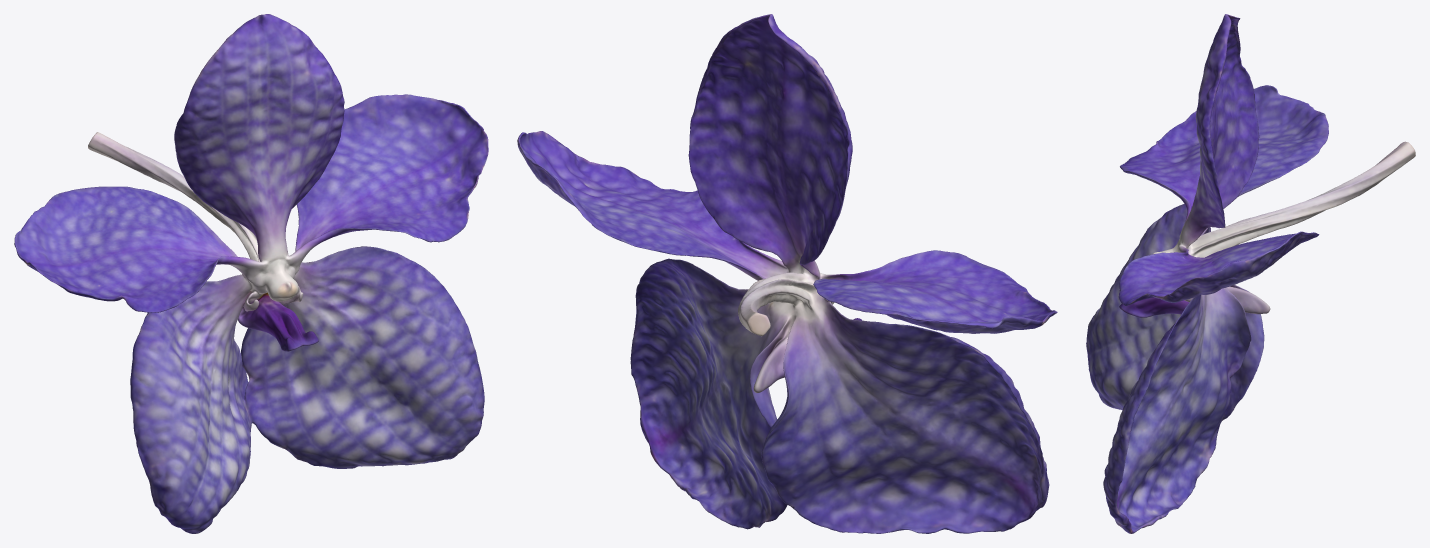
The model's file is Vanda.glb.
3 views of the same model, side by side, from view 1: azimuth 30°, elevation 25°; view 2: azimuth 150°, elevation 25°; view 3: azimuth 270°, elevation 25° (orthographic). The views are drawn at different scales.
Size of the model in its own units: 0.0997 by 0.097 by 0.0631.
Materials: 1 (1 with a texture image).
